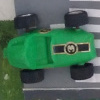verde_este: (4, 10, 96, 82)
